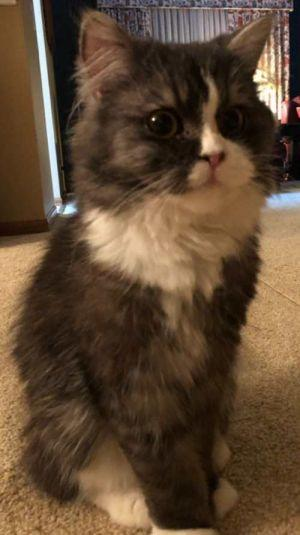persian: (56, 1, 300, 253)
